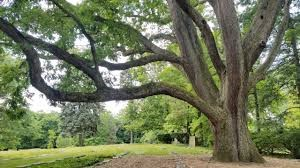dirt: (99, 154, 296, 166)
grass: (0, 144, 202, 167)
tree: (172, 2, 267, 165)
